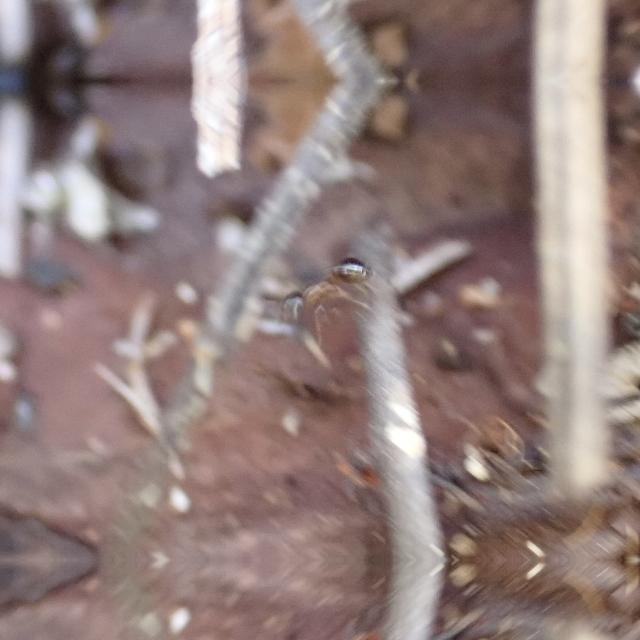Temnothorax: (270, 239, 386, 337)
